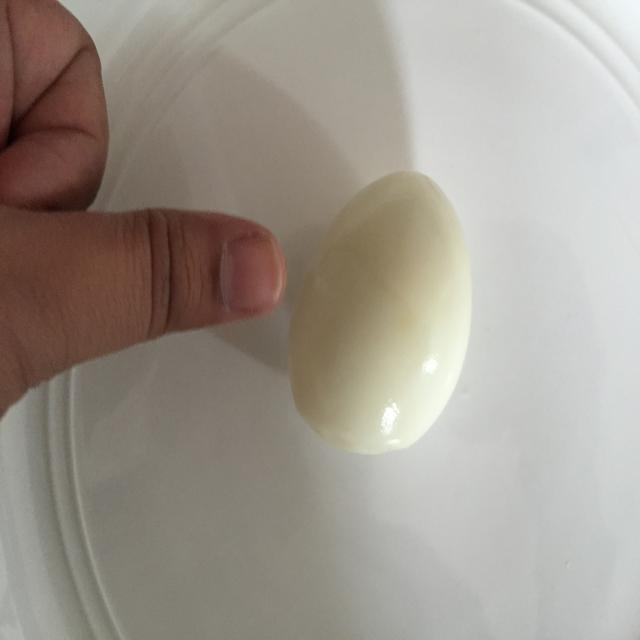Egg: (286, 164, 482, 464)
Finger: (120, 198, 292, 344)
